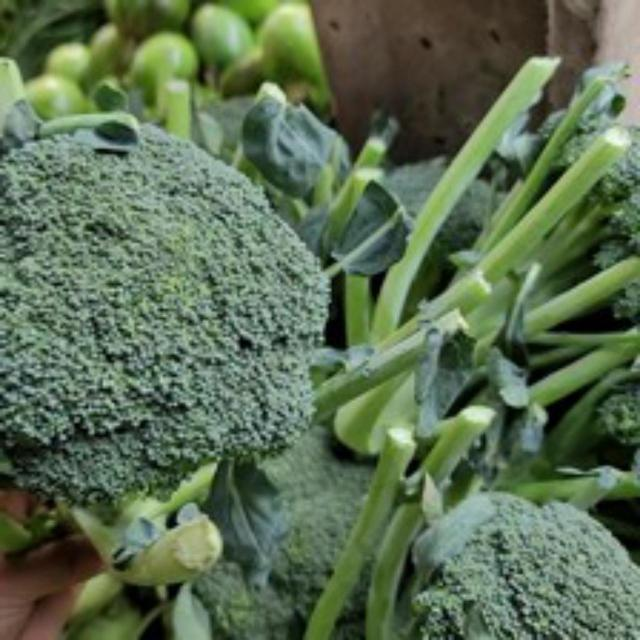broccoli: (0, 101, 328, 569)
